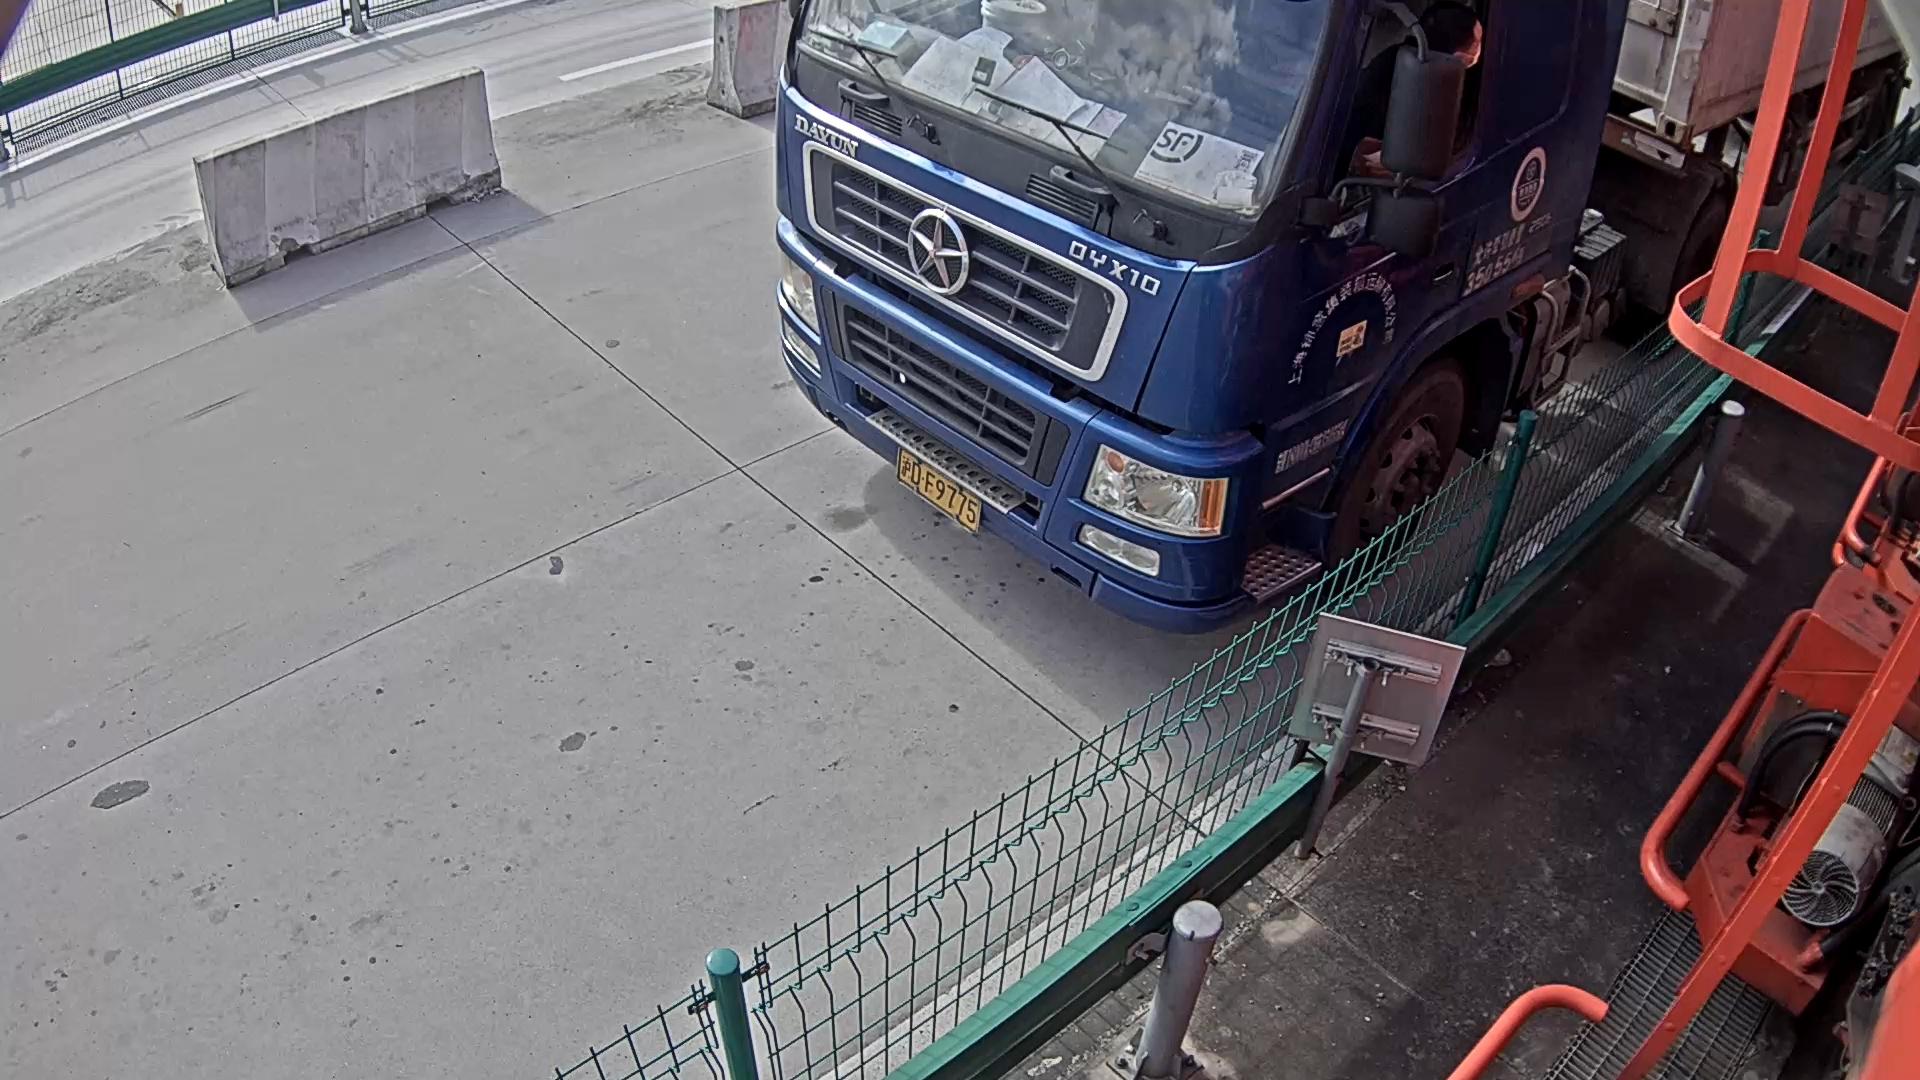head: (778, 1, 1622, 622)
plate: (894, 449, 986, 529)
